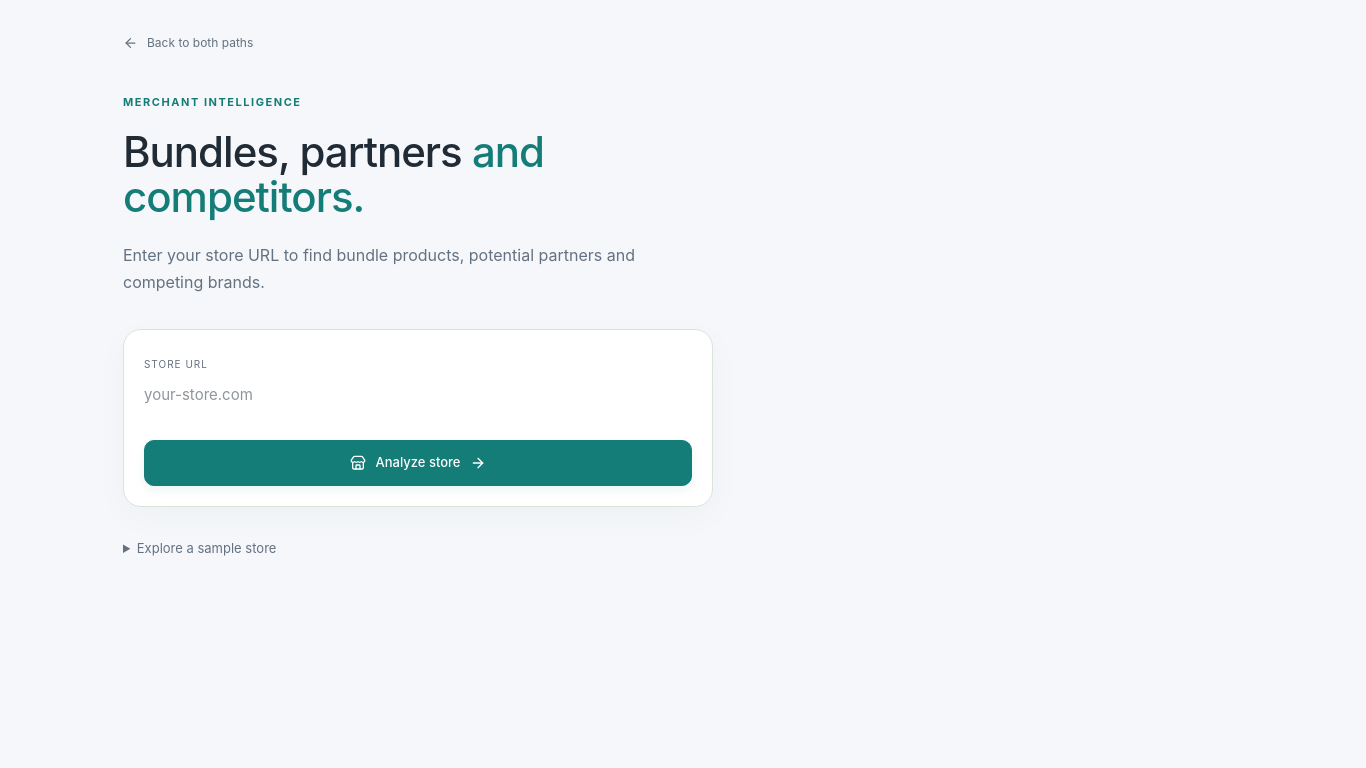
Test: MerchantWorkspace › labels a live public catalog separately from synthetic demand
In the field named "Public store URL": (418, 395) [144, 374, 692, 416], type "https://outfit-brand-1.example/"
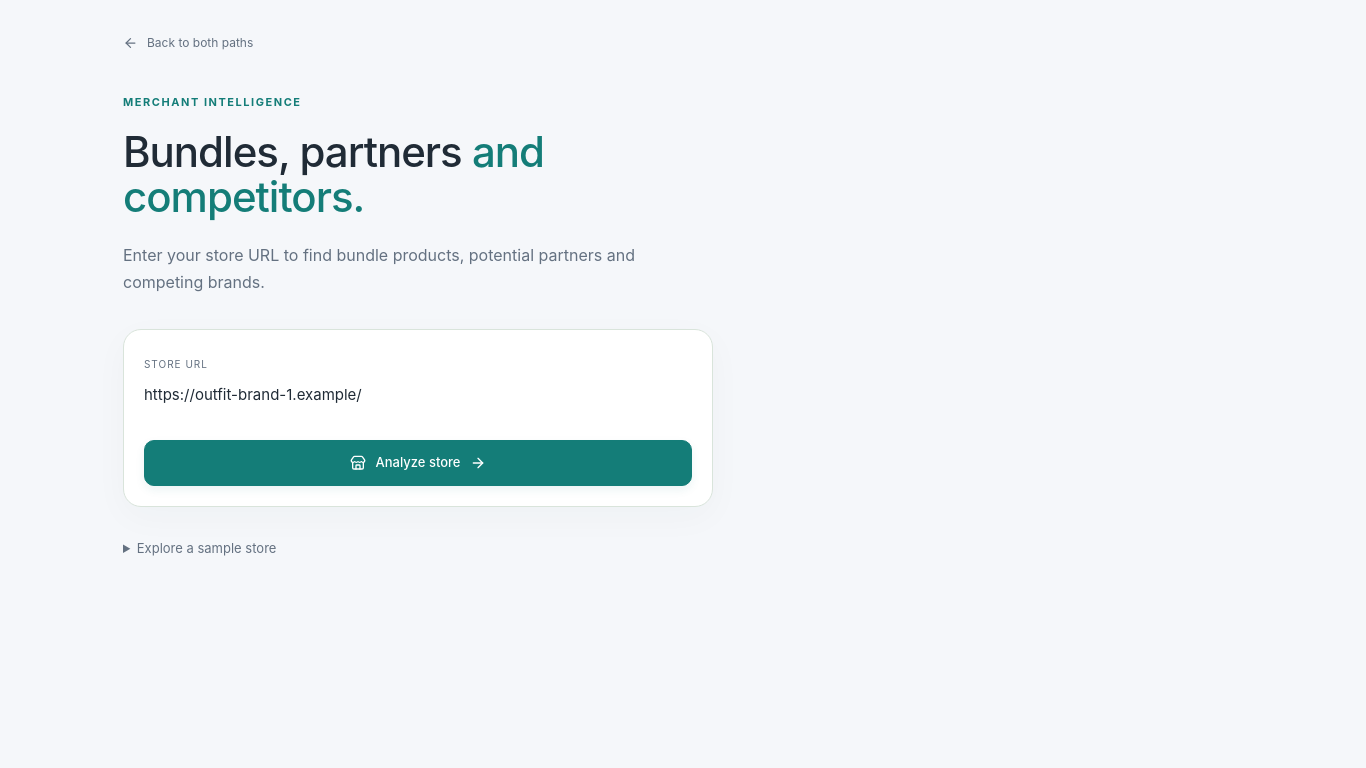
Click the button "Analyze store": (418, 463) [144, 440, 692, 486]
(page scrolled)
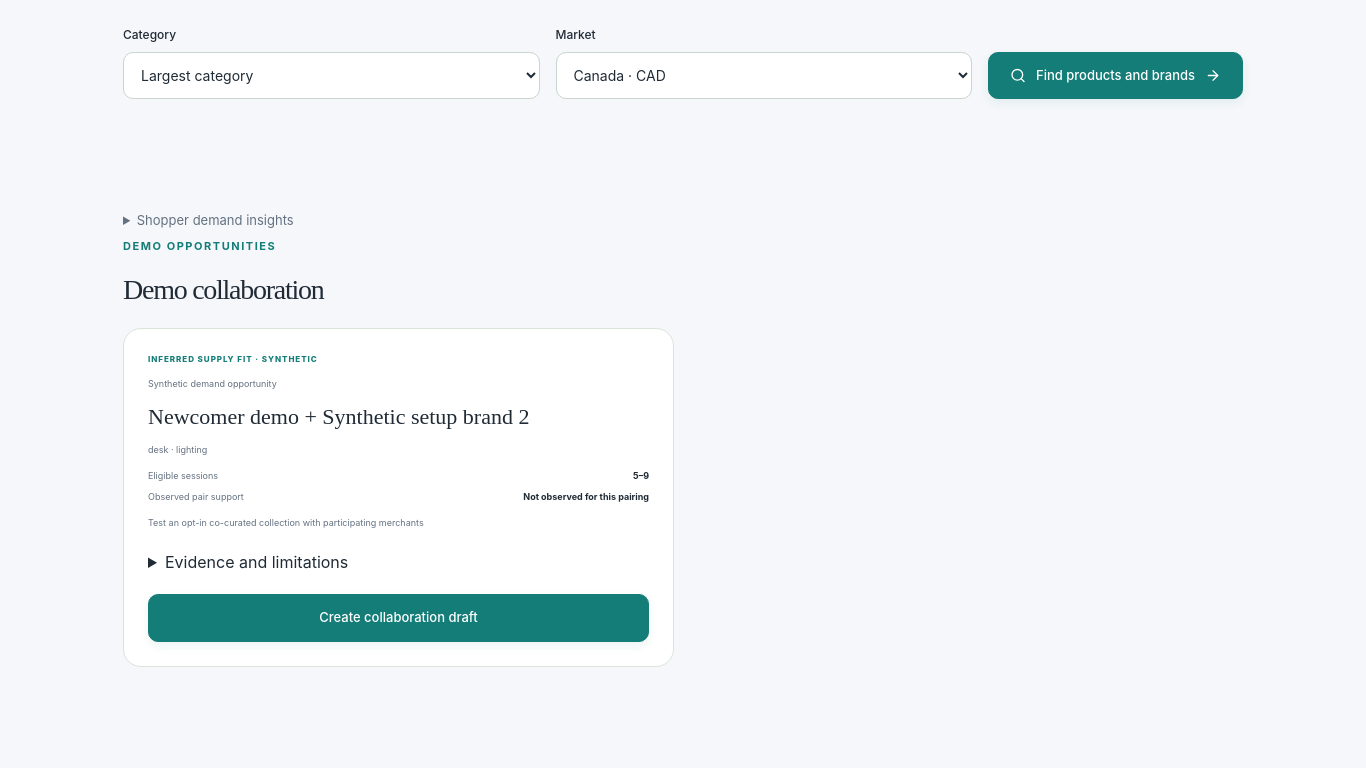
Expected: the text "Synthetic demand opportunity" is shown, [148, 378, 277, 389]
